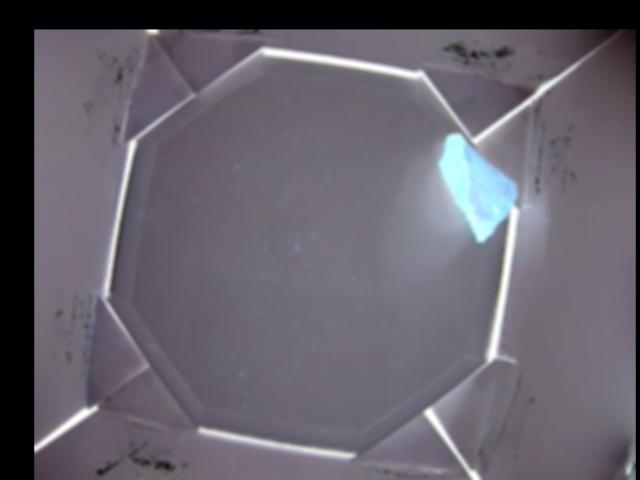Brisk: (439, 133, 517, 239)
